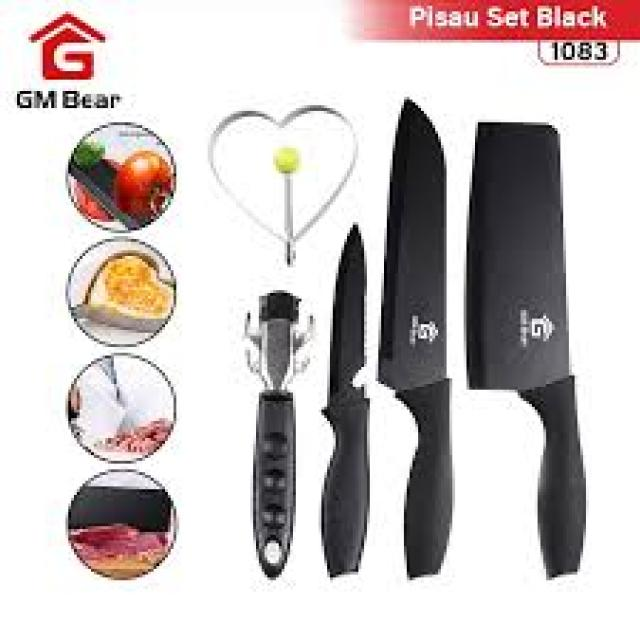Knife: (371, 66, 604, 603)
